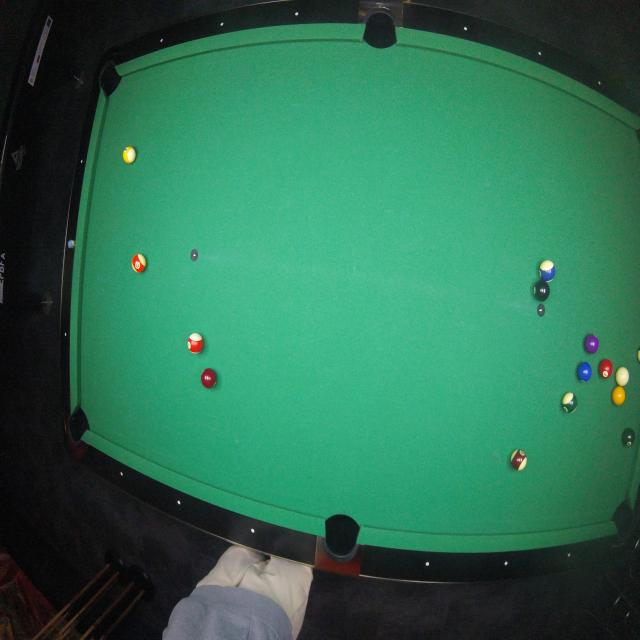cue ball: (616, 367, 629, 387)
other: (200, 363, 219, 392), (187, 331, 204, 356), (130, 252, 148, 275), (532, 280, 550, 303), (539, 259, 556, 283), (121, 144, 138, 167), (584, 332, 599, 356), (510, 450, 527, 471), (561, 392, 578, 412), (577, 362, 593, 382), (612, 386, 628, 406), (598, 359, 613, 379), (621, 427, 635, 447)
